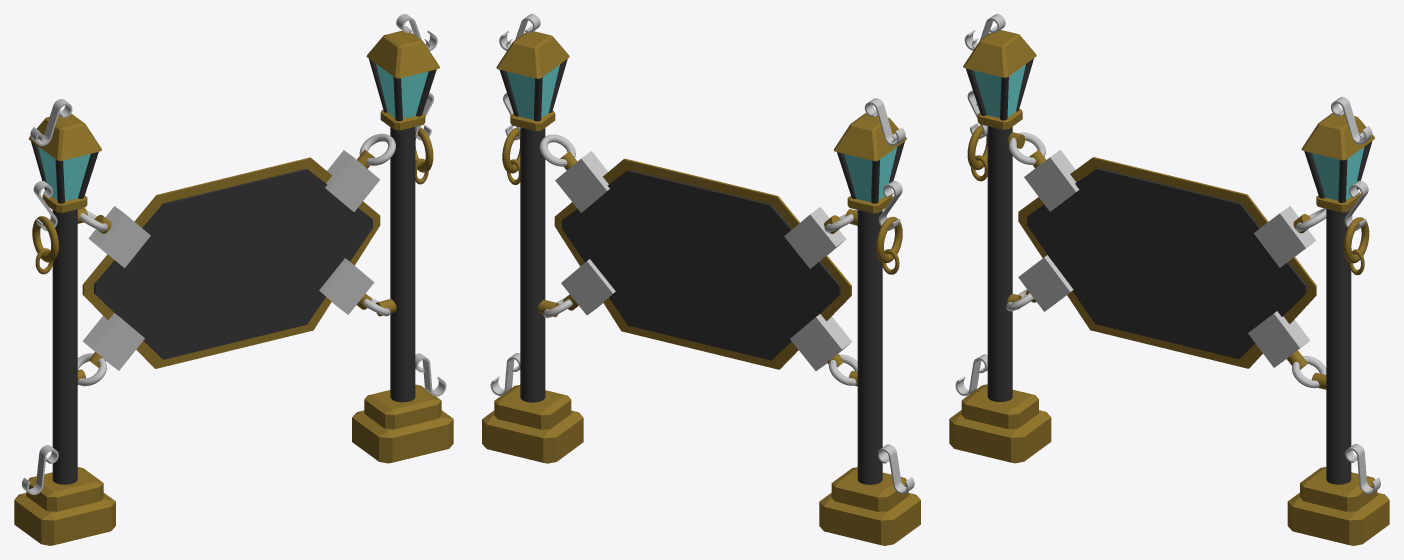
The model's file is lampSign.fbx.
3 views of the same model, side by side, from view 1: azimuth 30°, elevation 25°; view 2: azimuth 150°, elevation 25°; view 3: azimuth 330°, elevation 25° (orthographic).
Parts seen in each view (by area): view 1: Cube.145, Cylinder.082, Cylinder.087, Cube.146, Cube.143, Cube.131, Cube.128, Cube.129, Cube.140, Cube.149, Cube.147, Cube.150 (+6 smaller); view 2: Cube.145, Cylinder.082, Cylinder.087, Cube.146, Cube.131, Cube.143, Cube.128, Cube.129, Cube.140, Cube.149, Cube.147, Cube.150 (+7 smaller); view 3: Cube.145, Cylinder.087, Cylinder.082, Cube.146, Cube.131, Cube.143, Cube.140, Cube.141, Cube.128, Cube.147, Cube.148, Cube.150 (+7 smaller).
Part boxes in pixels (<box>): Cube.145: <box>94,168,372,359</box>; Cylinder.082: <box>390,127,415,402</box>; Cylinder.087: <box>52,209,77,484</box>; Cube.146: <box>82,157,380,368</box>; Cube.143: <box>14,493,115,545</box>; Cube.131: <box>352,410,453,463</box>; Cube.128: <box>364,384,441,429</box>; Cube.129: <box>366,30,439,78</box>; Cube.140: <box>26,467,103,511</box>; Cube.149: <box>82,313,144,370</box>; Cube.147: <box>325,150,379,211</box>; Cube.150: <box>88,206,150,267</box>; Cube.145: <box>562,170,840,360</box>; Cylinder.082: <box>520,127,545,402</box>; Cylinder.087: <box>857,210,882,484</box>; Cube.146: <box>554,158,851,369</box>; Cube.131: <box>482,410,583,463</box>; Cube.143: <box>819,493,920,545</box>; Cube.128: <box>494,385,571,429</box>; Cube.129: <box>496,31,569,79</box>; Cube.140: <box>831,467,908,511</box>; Cube.149: <box>790,314,851,370</box>; Cube.147: <box>555,151,609,212</box>; Cube.150: <box>784,207,846,268</box>; Cube.145: <box>1027,168,1306,358</box>; Cylinder.087: <box>987,126,1012,401</box>; Cylinder.082: <box>1326,209,1351,484</box>; Cube.146: <box>1018,157,1316,368</box>; Cube.131: <box>1287,492,1389,545</box>; Cube.143: <box>949,410,1051,463</box>; Cube.140: <box>961,384,1038,429</box>; Cube.141: <box>963,30,1036,77</box>; Cube.128: <box>1300,467,1377,511</box>; Cube.147: <box>1254,206,1315,267</box>; Cube.148: <box>1248,311,1310,367</box>; Cube.150: <box>1024,150,1079,211</box>.
Size of the model in its own units: 1274 by 1250 by 187.
